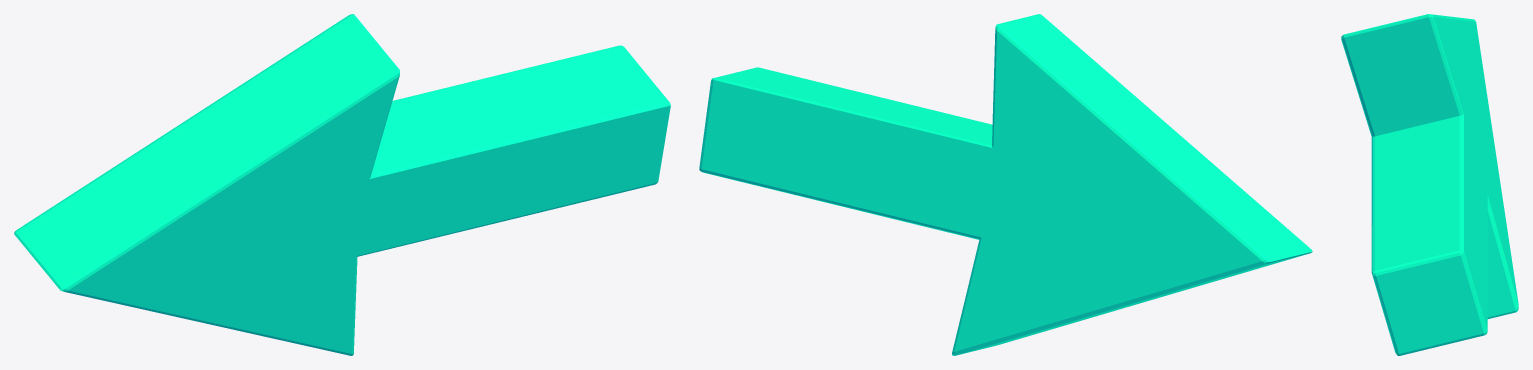
File: arrow.glb
3 views of the same model, side by side, from view 1: azimuth 30°, elevation 25°; view 2: azimuth 150°, elevation 25°; view 3: azimuth 270°, elevation 25° (orthographic). The views are drawn at different scales.
Visible parts, largest first — view 1: Curve; view 2: Curve; view 3: Curve.
Boxes of the visible parts, x1,y1,x2,y2 form: Curve: [14, 14, 670, 355]; Curve: [699, 14, 1312, 355]; Curve: [1341, 14, 1518, 355].
Size of the model in its own units: 0.1058 by 0.0571 by 0.0289.
